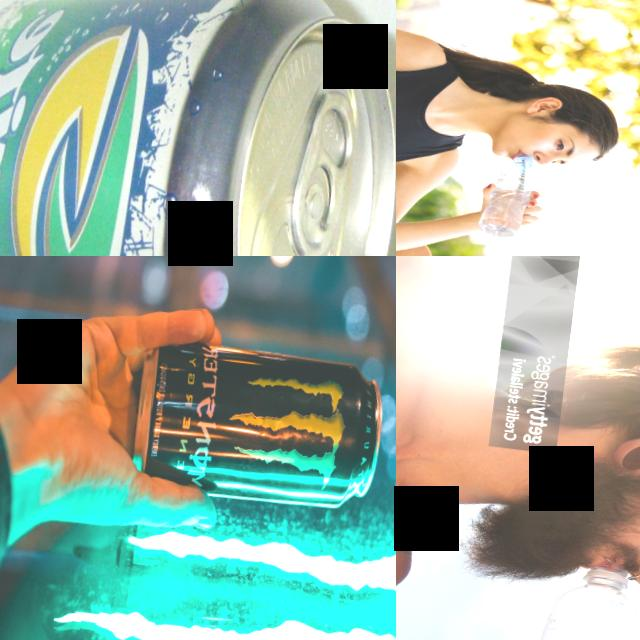bottle: (496, 553, 640, 640), (476, 149, 536, 242)
can: (0, 0, 396, 256), (125, 330, 390, 516)
